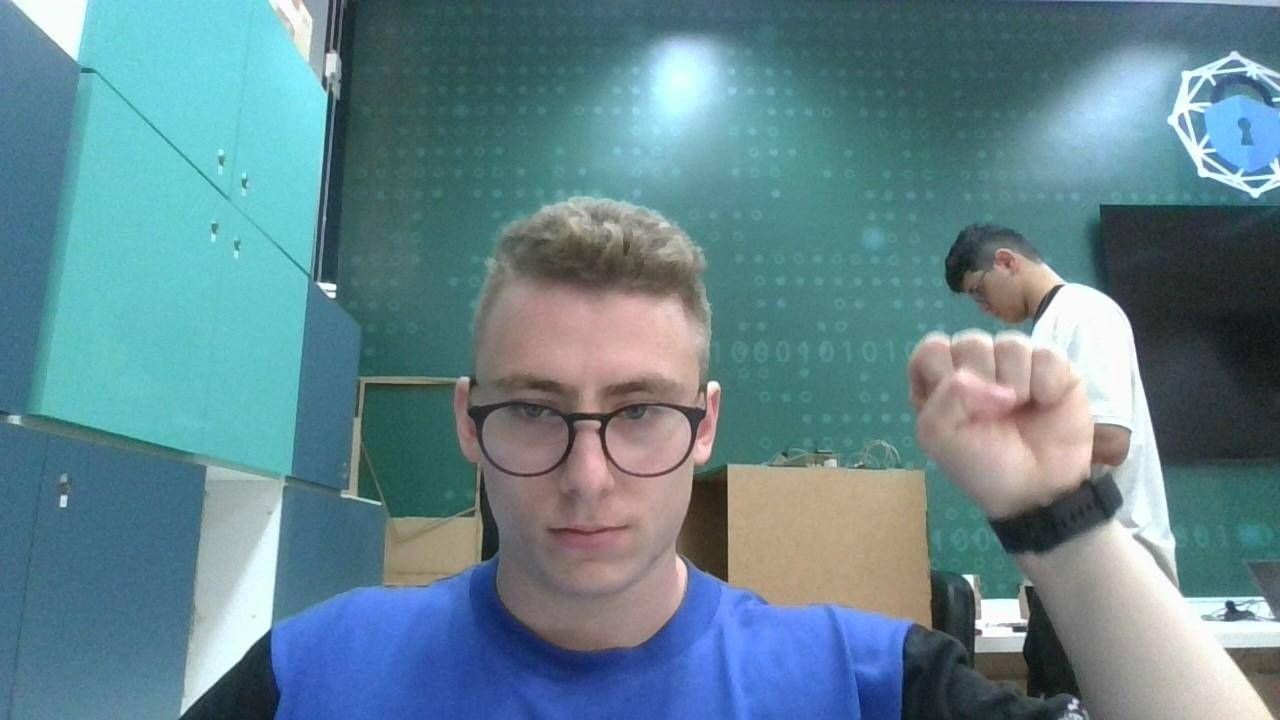S: (904, 322, 1098, 504)
